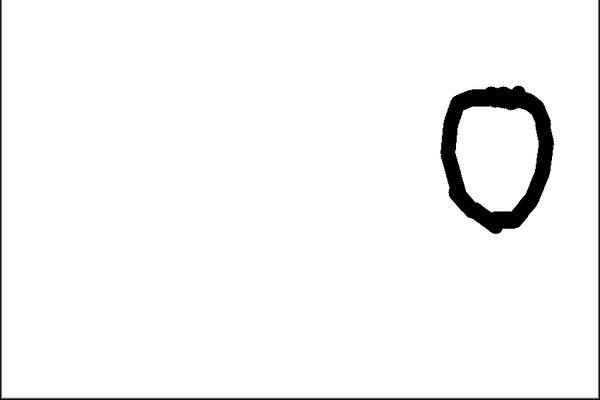O: (432, 76, 558, 240)
